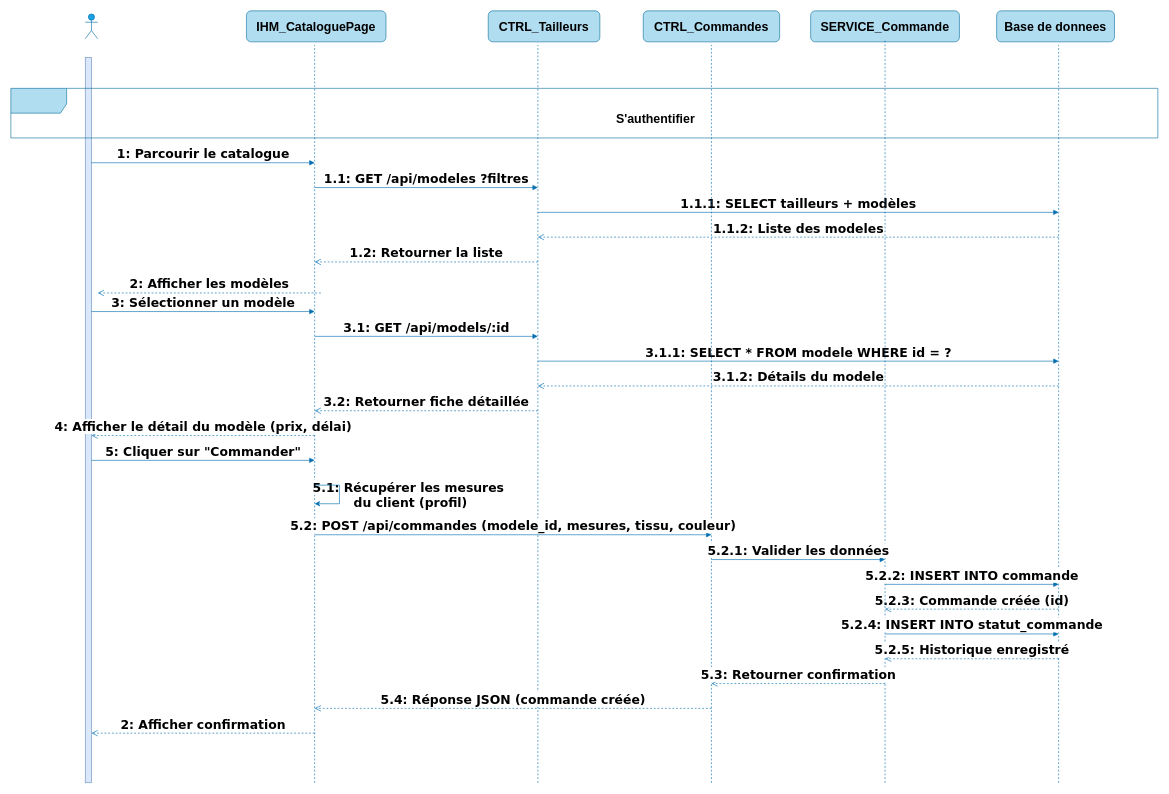
Image size: 1169x794. Some labels were removed from this diagram. Here are the shapes that lost their labels. From the top down, the box of each, then its label:
(85, 13, 98, 39): Client
(10, 88, 1158, 138): ref
